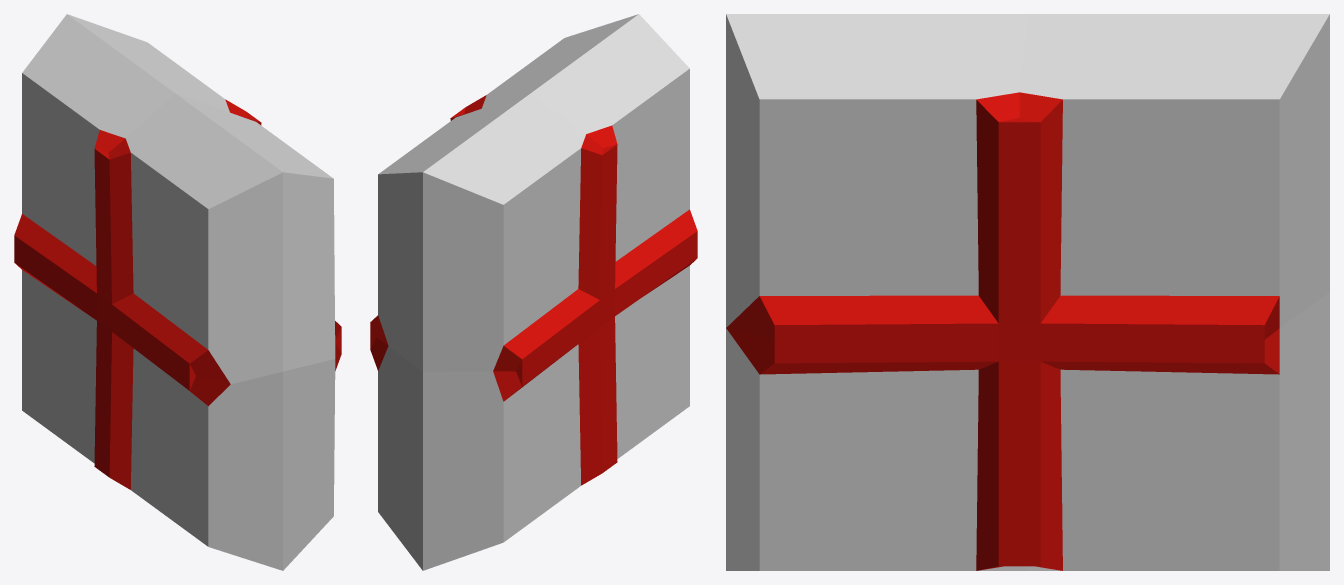
File: heal_kit.fbx
3 views of the same model, side by side, from view 1: azimuth 30°, elevation 25°; view 2: azimuth 150°, elevation 25°; view 3: azimuth 270°, elevation 25° (orthographic). The views are drawn at different scales.
Visible parts, largest first — view 1: Cube; view 2: Cube; view 3: Cube.
Boxes of the visible parts, <box> form: Cube: <box>14,14,341,570</box>; Cube: <box>370,14,697,570</box>; Cube: <box>726,14,1329,570</box>.
Bounding box in the file's own units: 99.98 × 251 × 246.
